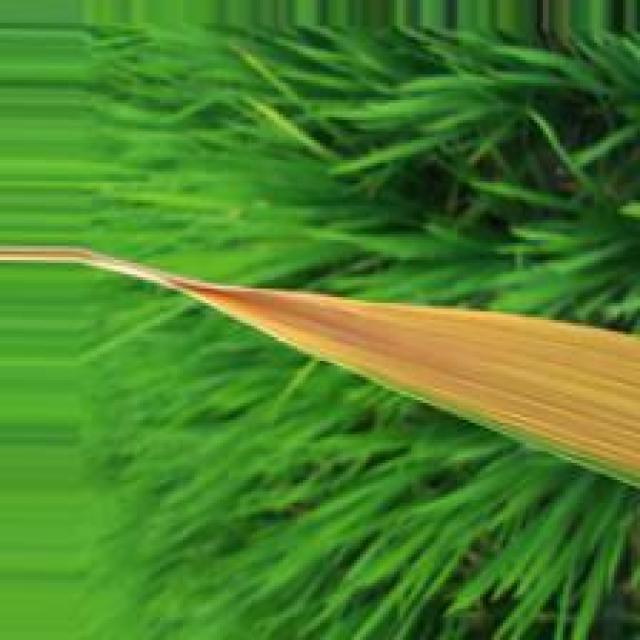Leaf_Scald: (148, 272, 637, 470)
